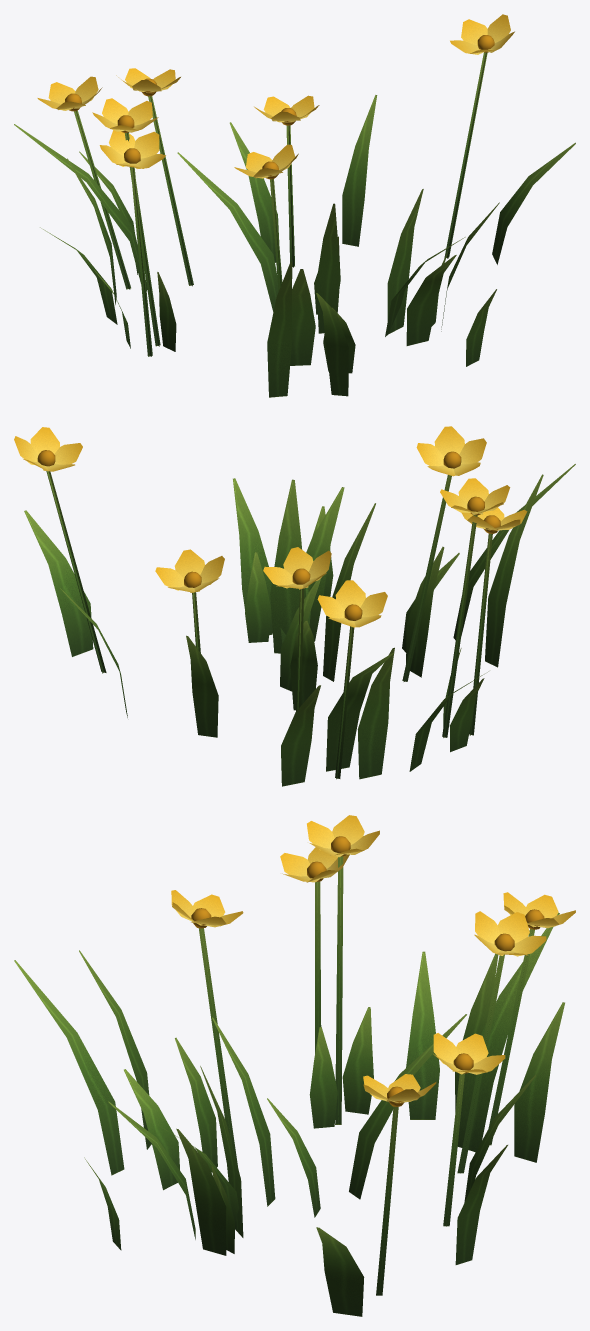
File: flowers_buttercup.glb
3 views of the same model, one above another, from view 1: azimuth 30°, elevation 25°; view 2: azimuth 150°, elevation 25°; view 3: azimuth 270°, elevation 25° (orthographic). The views are drawn at different scales.
Visible parts, largest first — view 1: model; view 2: model; view 3: model.
Part boxes in pixels (bbox=[...]): model: bbox=[14, 14, 575, 397]; model: bbox=[14, 426, 575, 786]; model: bbox=[14, 815, 575, 1316].
Bounding box in the file's own units: 0.9909 × 0.467 × 0.8602.
Materials: 4 (3 with a texture image).
